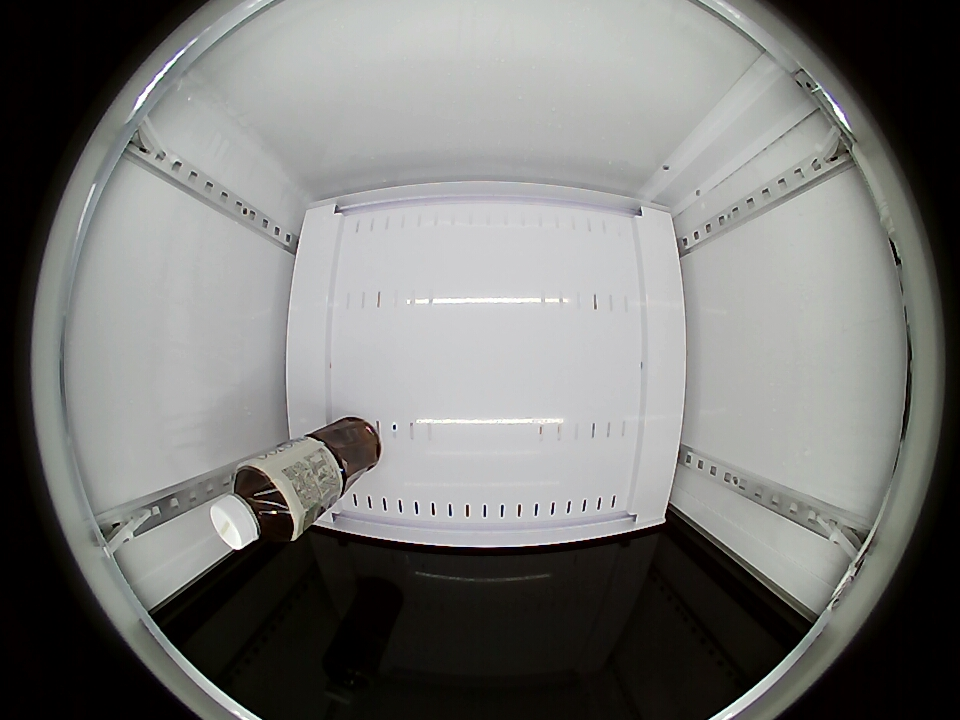wulongcha: (209, 459, 301, 551)
